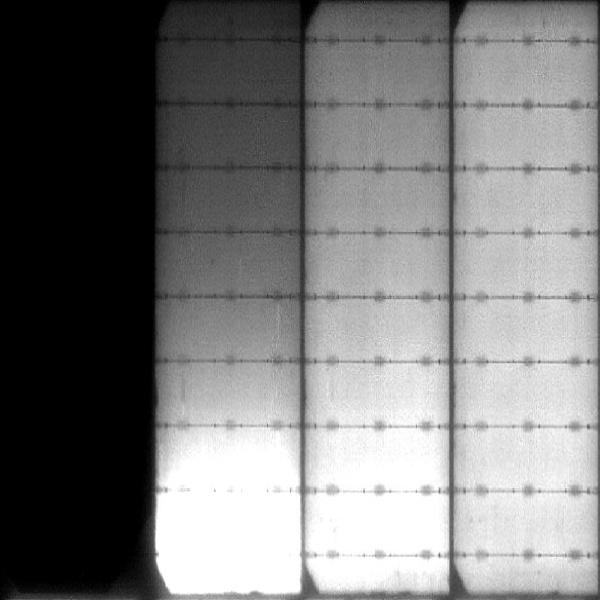hot_spot: (160, 497, 299, 593), (314, 499, 447, 547), (169, 443, 296, 485), (321, 460, 440, 483)
no_electricity: (1, 4, 159, 598)
